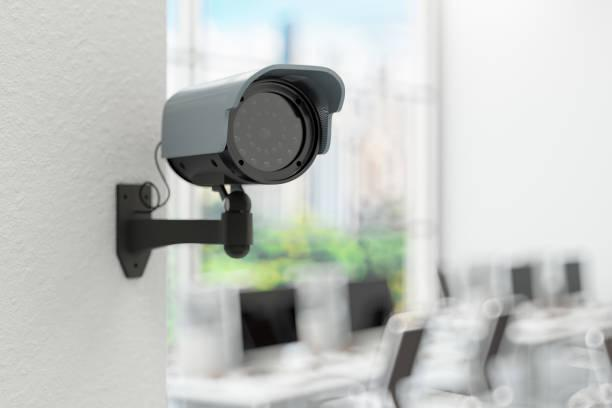camera: (149, 41, 353, 269)
